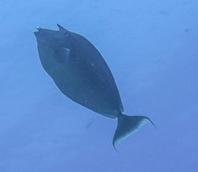Acanthuridae -Surgeonfishes-: (27, 15, 162, 161)
